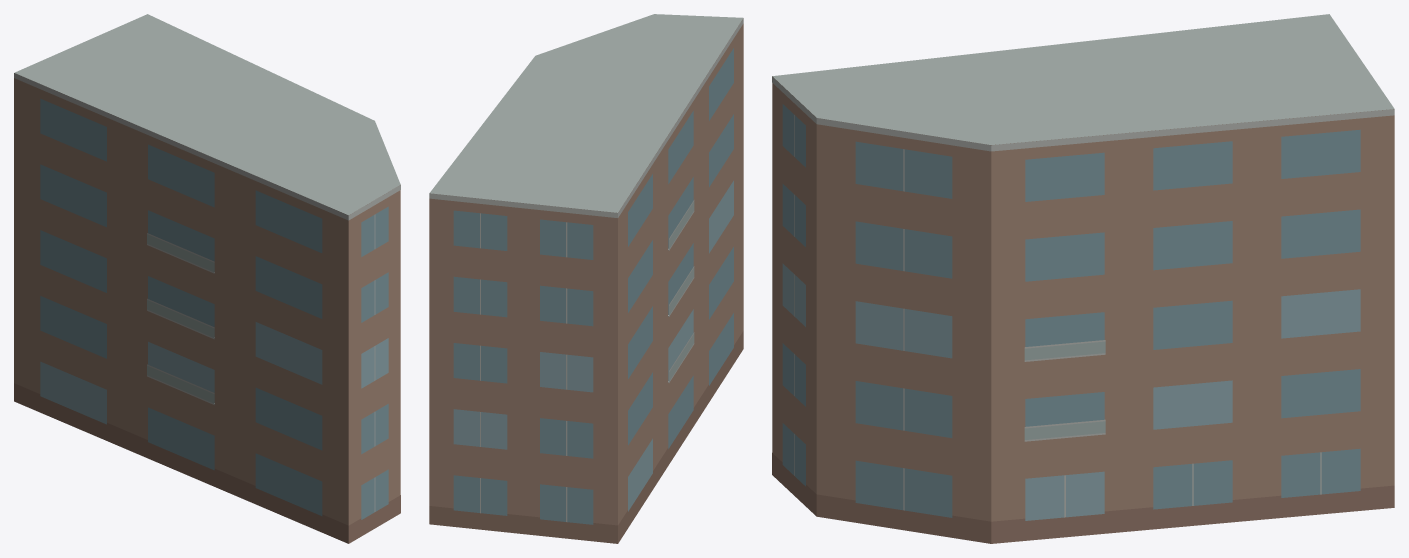
File: survey-upis-32932199.glb
3 views of the same model, side by side, from view 1: azimuth 30°, elevation 25°; view 2: azimuth 150°, elevation 25°; view 3: azimuth 270°, elevation 25° (orthographic). The views are drawn at different scales.
Parts seen in each view (by area): view 1: survey-upis-32932199.tmp; view 2: survey-upis-32932199.tmp; view 3: survey-upis-32932199.tmp.
Boxes of the visible parts, x1,y1,x2,y2 form: survey-upis-32932199.tmp: (14, 14, 400, 543); survey-upis-32932199.tmp: (429, 14, 743, 543); survey-upis-32932199.tmp: (772, 14, 1394, 543).
Bounding box in the file's own units: 10.8 × 15.3 × 21.66.
